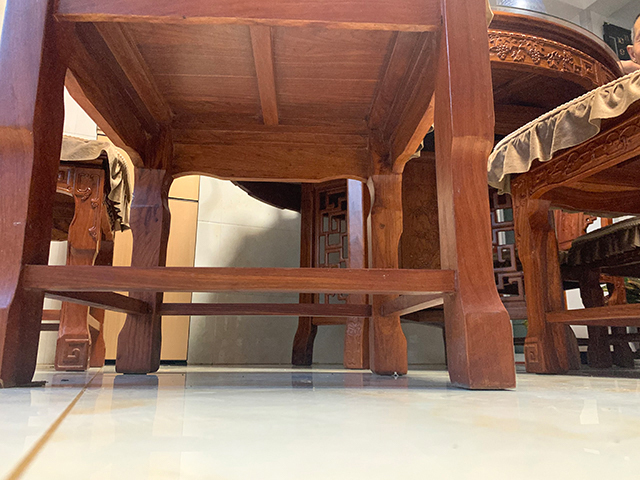stool: (1, 1, 516, 388), (486, 67, 640, 377)
